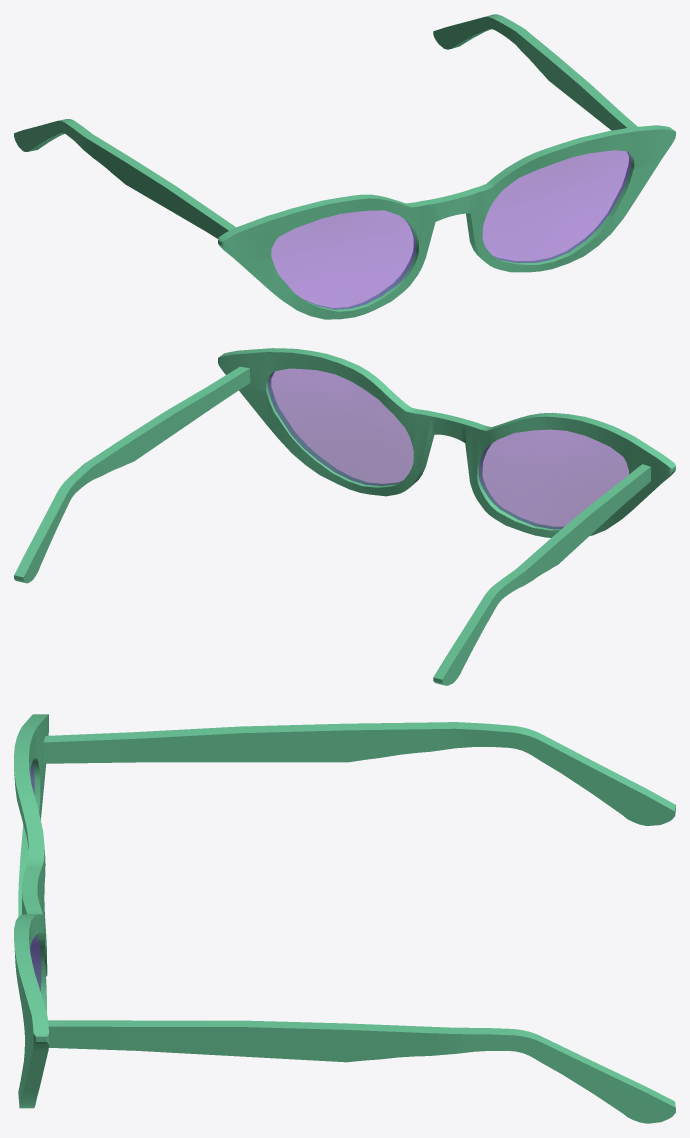
Rendered from greenglass.glb.
3 views of the same model, one above another, from view 1: azimuth 30°, elevation 25°; view 2: azimuth 150°, elevation 25°; view 3: azimuth 270°, elevation 25° (orthographic). The views are drawn at different scales.
Visible parts, largest first — view 1: Object_7.004; view 2: Object_7.004; view 3: Object_7.004.
Boxes of the visible parts, <box> form: Object_7.004: <box>14,14,675,319</box>; Object_7.004: <box>14,348,675,685</box>; Object_7.004: <box>14,714,675,1123</box>.
Bounding box in the file's own units: 6.08 × 1.57 × 5.3.
Materials: 2 (1 with a texture image).
